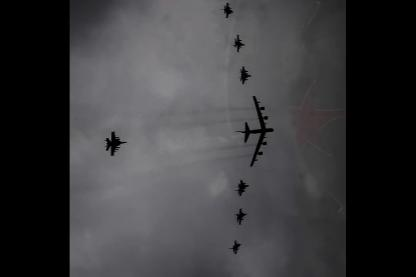B2: (235, 95, 274, 165)
F117: (236, 65, 251, 84), (234, 178, 249, 195)
F14: (219, 1, 234, 17), (229, 239, 240, 253)
F15: (103, 131, 126, 155), (232, 34, 245, 52), (235, 206, 246, 223)
